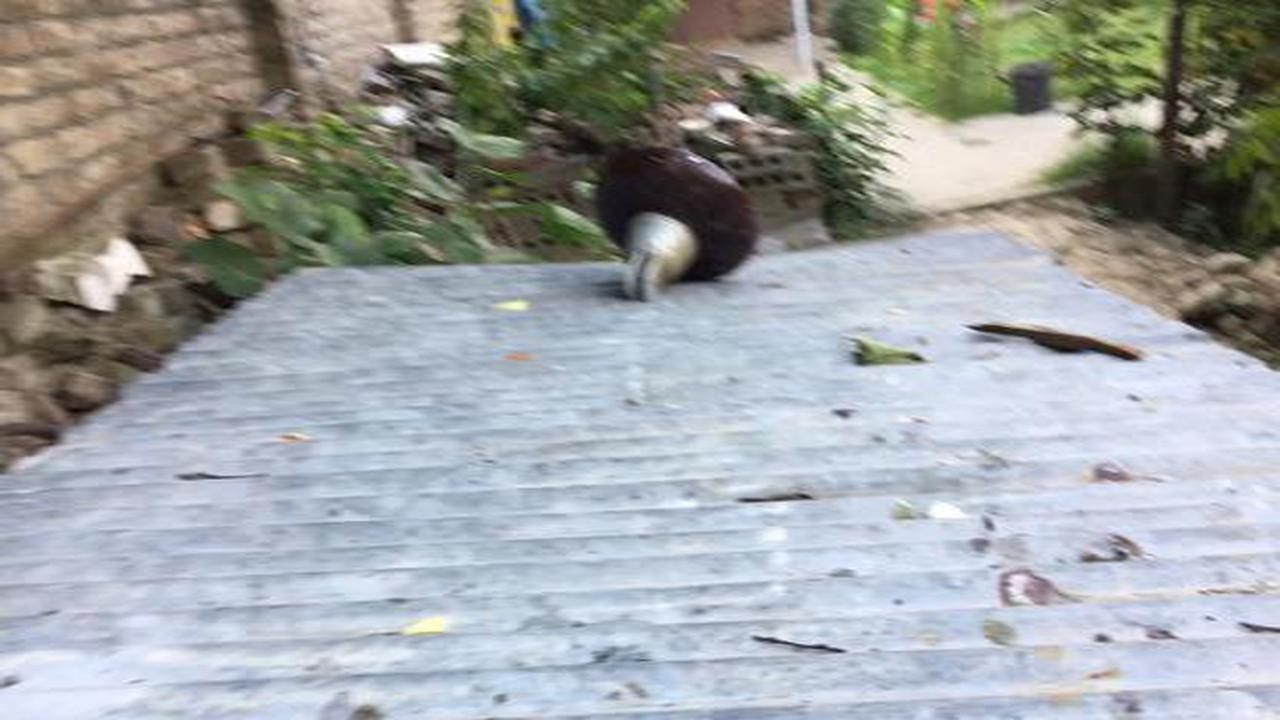insulator_disc: (595, 143, 763, 312)
